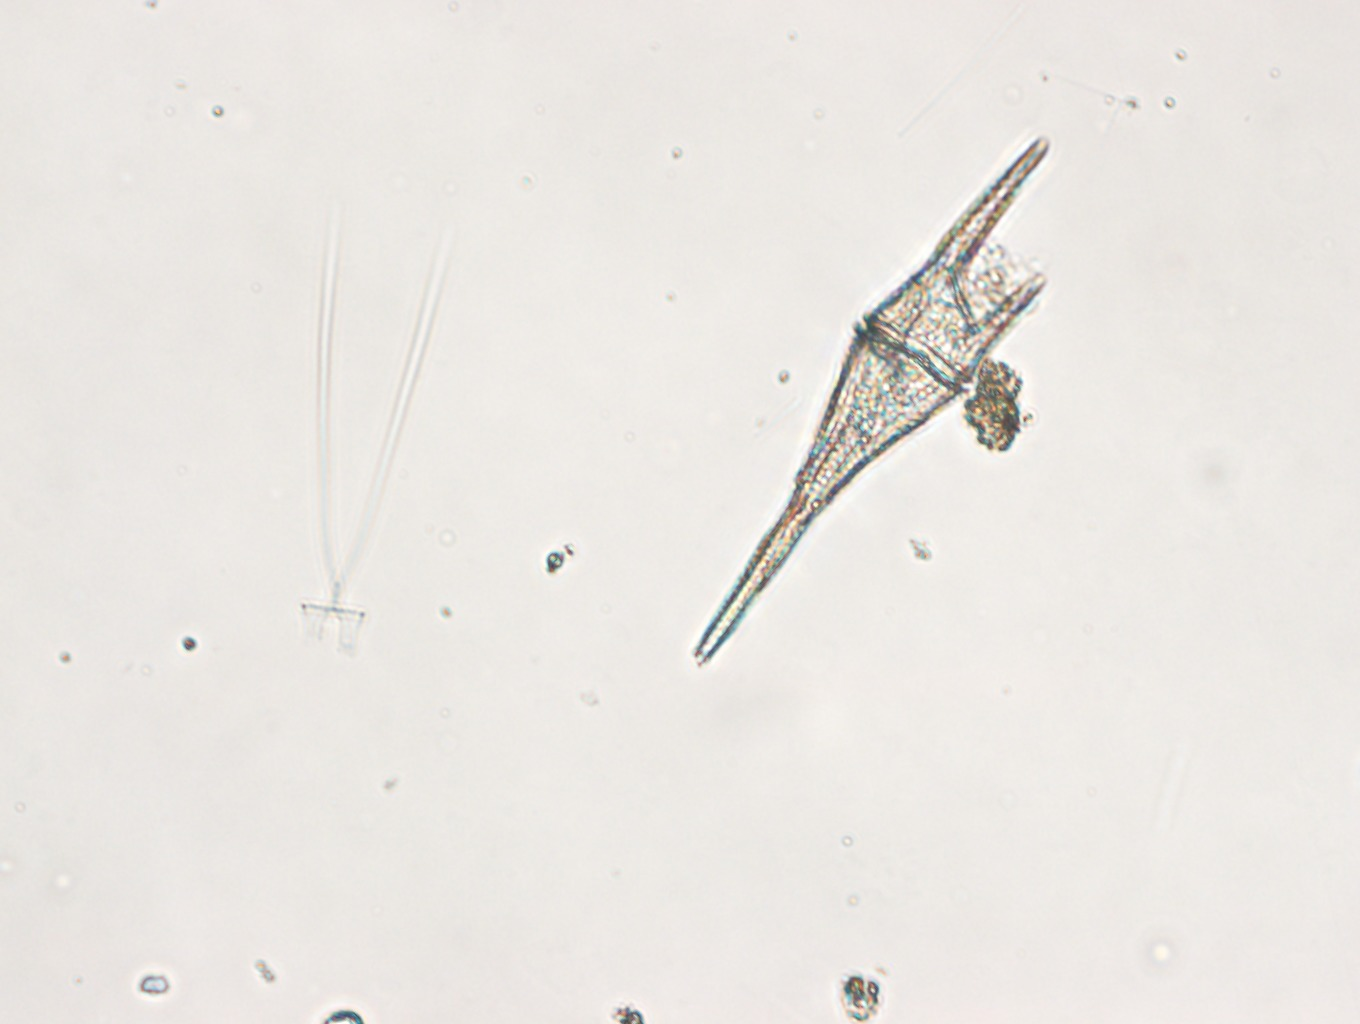ceratium furca: (692, 123, 1058, 669)
chaetoceros: (298, 198, 452, 655)
